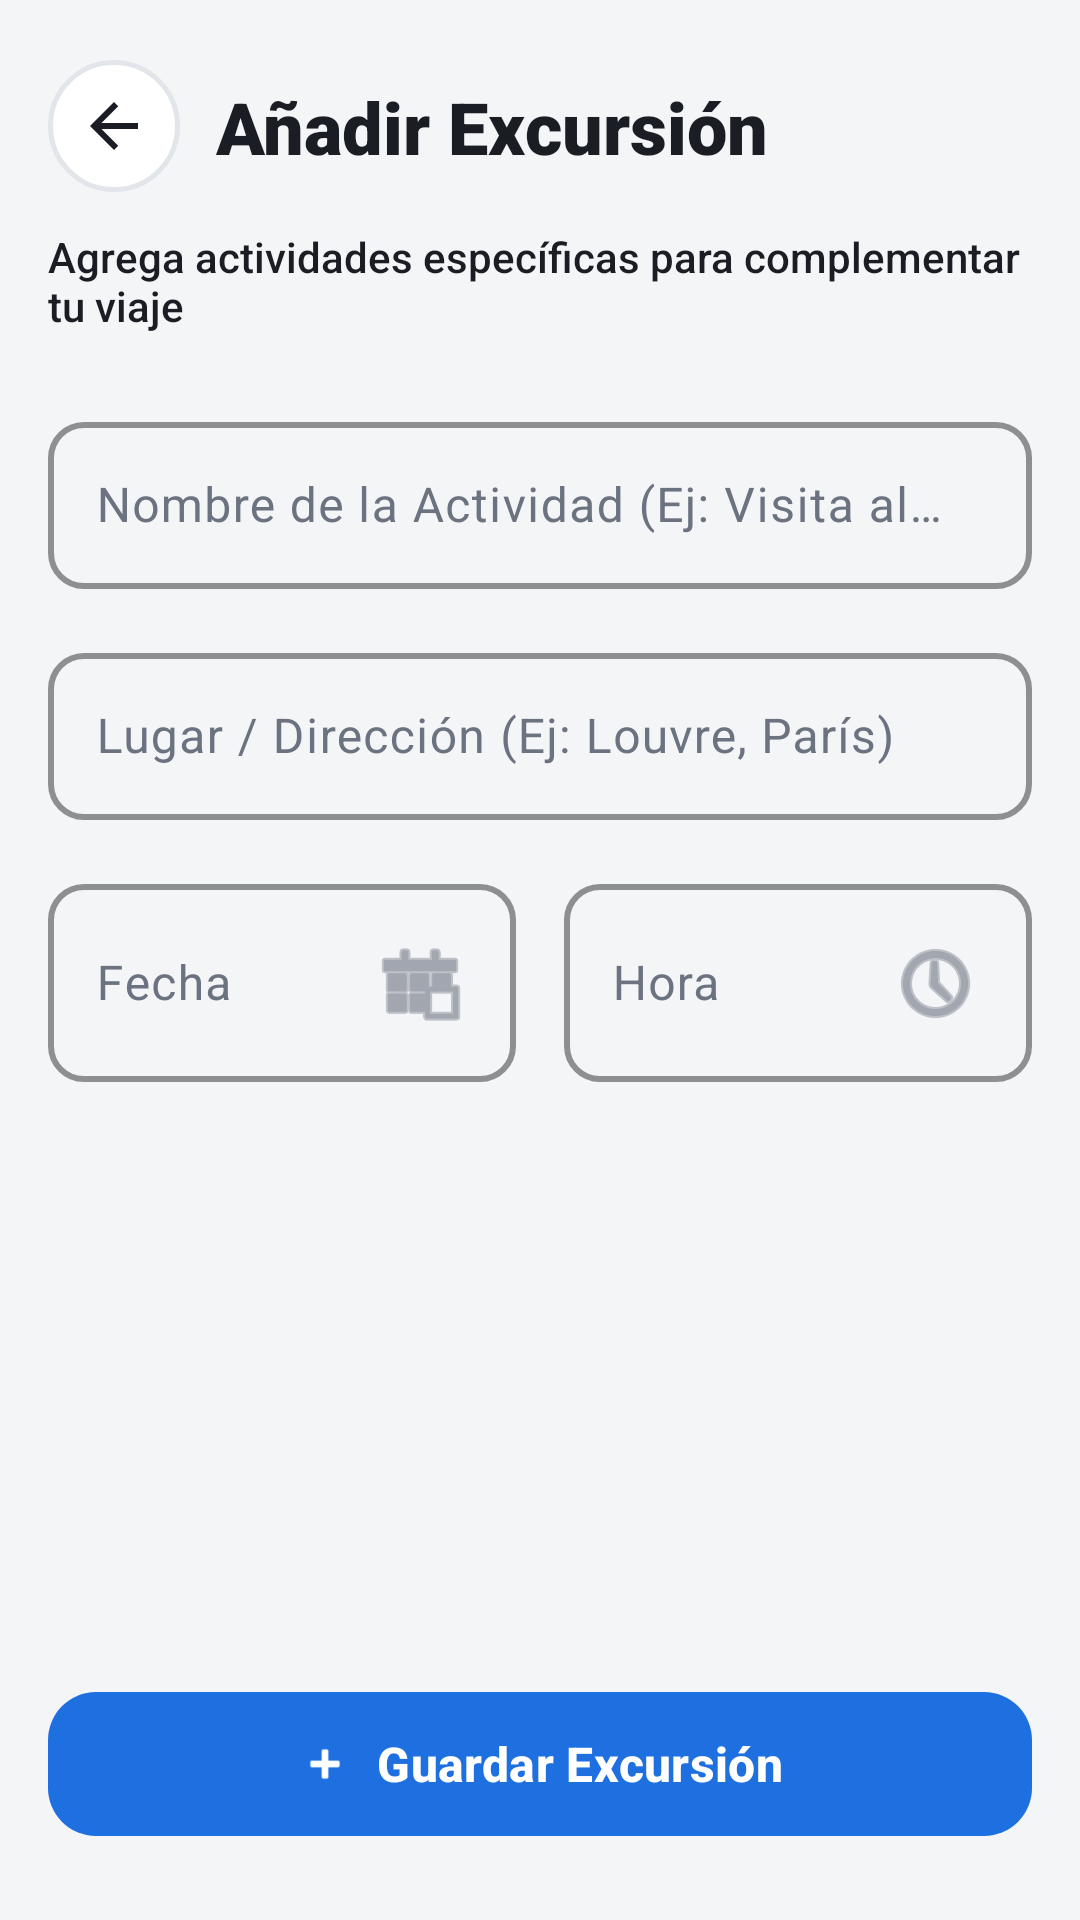

Where icons sit on this 1080w x 1920h app screen, as box(x1, y1, x2, y2):
Volver: box(48, 60, 180, 192)
